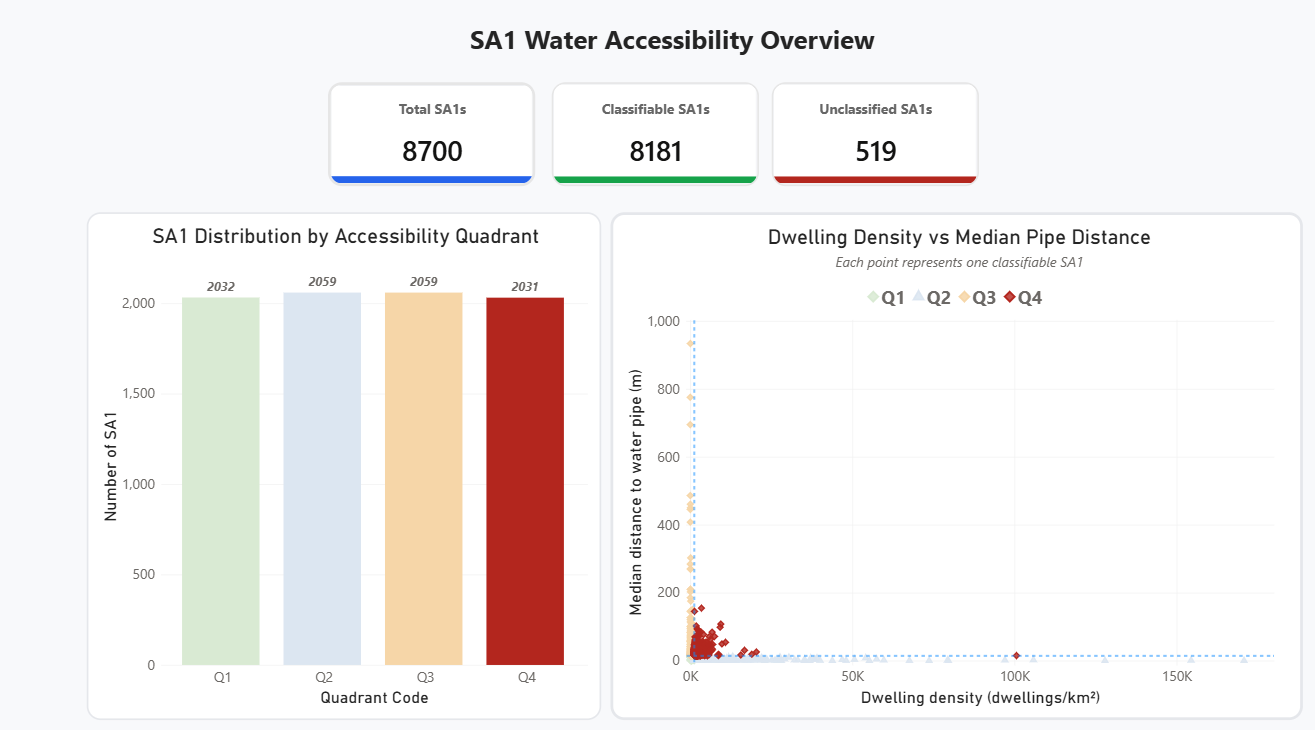

The dashboard page shown, as its layout file describes it:
{"tool":"powerbi","page":{"name":"Page 1","canvas":[1920,1080],"ordinal":0},"visuals":[{"type":"scatterChart","title":"Dwelling Density vs Median Pipe Distance","fields":{"Category":["MART_SA1_ACCESSIBILITY_QUADRANTS.SA1_ID"],"Series":["MART_SA1_ACCESSIBILITY_QUADRANTS.QUADRANT_CODE"],"X":["Avg(MART_SA1_ACCESSIBILITY_QUADRANTS.DWELLING_DENSITY_PER_SQ_KM)"],"Y":["Avg(MART_SA1_ACCESSIBILITY_QUADRANTS.MEDIAN_PIPE_DISTANCE_M)"]},"box":[893.3,321.1,1002.4,734.8],"z":0},{"type":"cardVisual","fields":{"Data":["MART_SA1_ACCESSIBILITY_QUADRANTS.Total SA1s"]},"box":[485,132.1,300,150],"z":1000},{"type":"cardVisual","fields":{"Data":["MART_SA1_ACCESSIBILITY_QUADRANTS.Classifiable SA1s"]},"box":[808.9,132.1,300,150],"z":2000},{"type":"cardVisual","fields":{"Data":["MART_SA1_ACCESSIBILITY_QUADRANTS.Unclassified SA1s"]},"box":[1127.4,132.1,300,150],"z":3000},{"type":"clusteredColumnChart","title":"SA1 Distribution by Accessibility Quadrant","fields":{"Category":["MART_SA1_ACCESSIBILITY_QUADRANTS.QUADRANT_CODE"],"Y":["Count(MART_SA1_ACCESSIBILITY_QUADRANTS.SA1_ID)"]},"box":[135.7,320.3,745.1,734.8],"z":4000},{"type":"textbox","box":[654.5,43.2,656.6,57.6],"z":5000}]}

Visuals, with their boxes in screenshot pixels (x1, y1, x2, y2), scaled from the page's 1920x1080 canvas onto the 1315x730 screenshot:
"Dwelling Density vs Median Pipe Distance" scatterChart: Rect(612, 217, 1298, 714)
cardVisual - MART_SA1_ACCESSIBILITY_QUADRANTS.Total SA1s: Rect(332, 89, 538, 191)
cardVisual - MART_SA1_ACCESSIBILITY_QUADRANTS.Classifiable SA1s: Rect(554, 89, 759, 191)
cardVisual - MART_SA1_ACCESSIBILITY_QUADRANTS.Unclassified SA1s: Rect(772, 89, 978, 191)
"SA1 Distribution by Accessibility Quadrant" clusteredColumnChart: Rect(93, 216, 603, 713)
textbox: Rect(448, 29, 898, 68)
